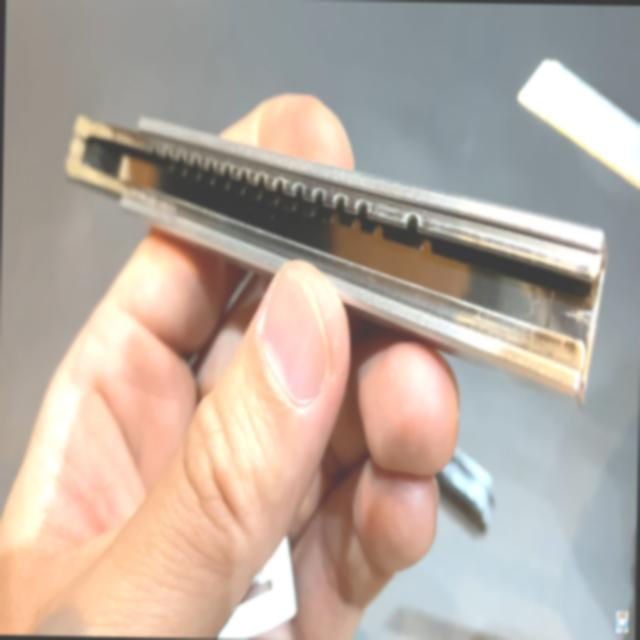cutter: (1, 10, 640, 499)
